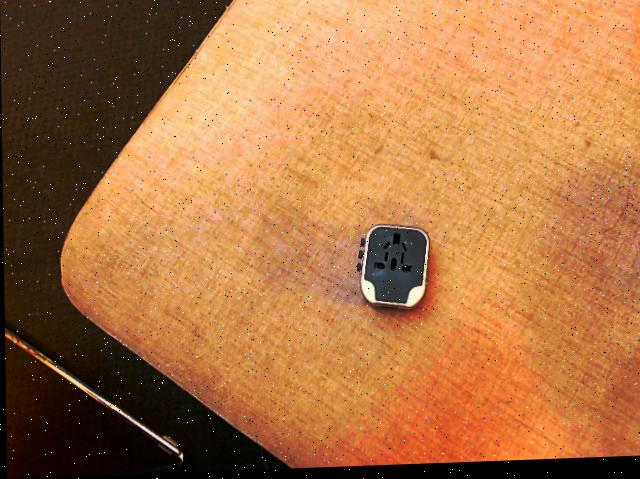adapter: (355, 226, 430, 314)
